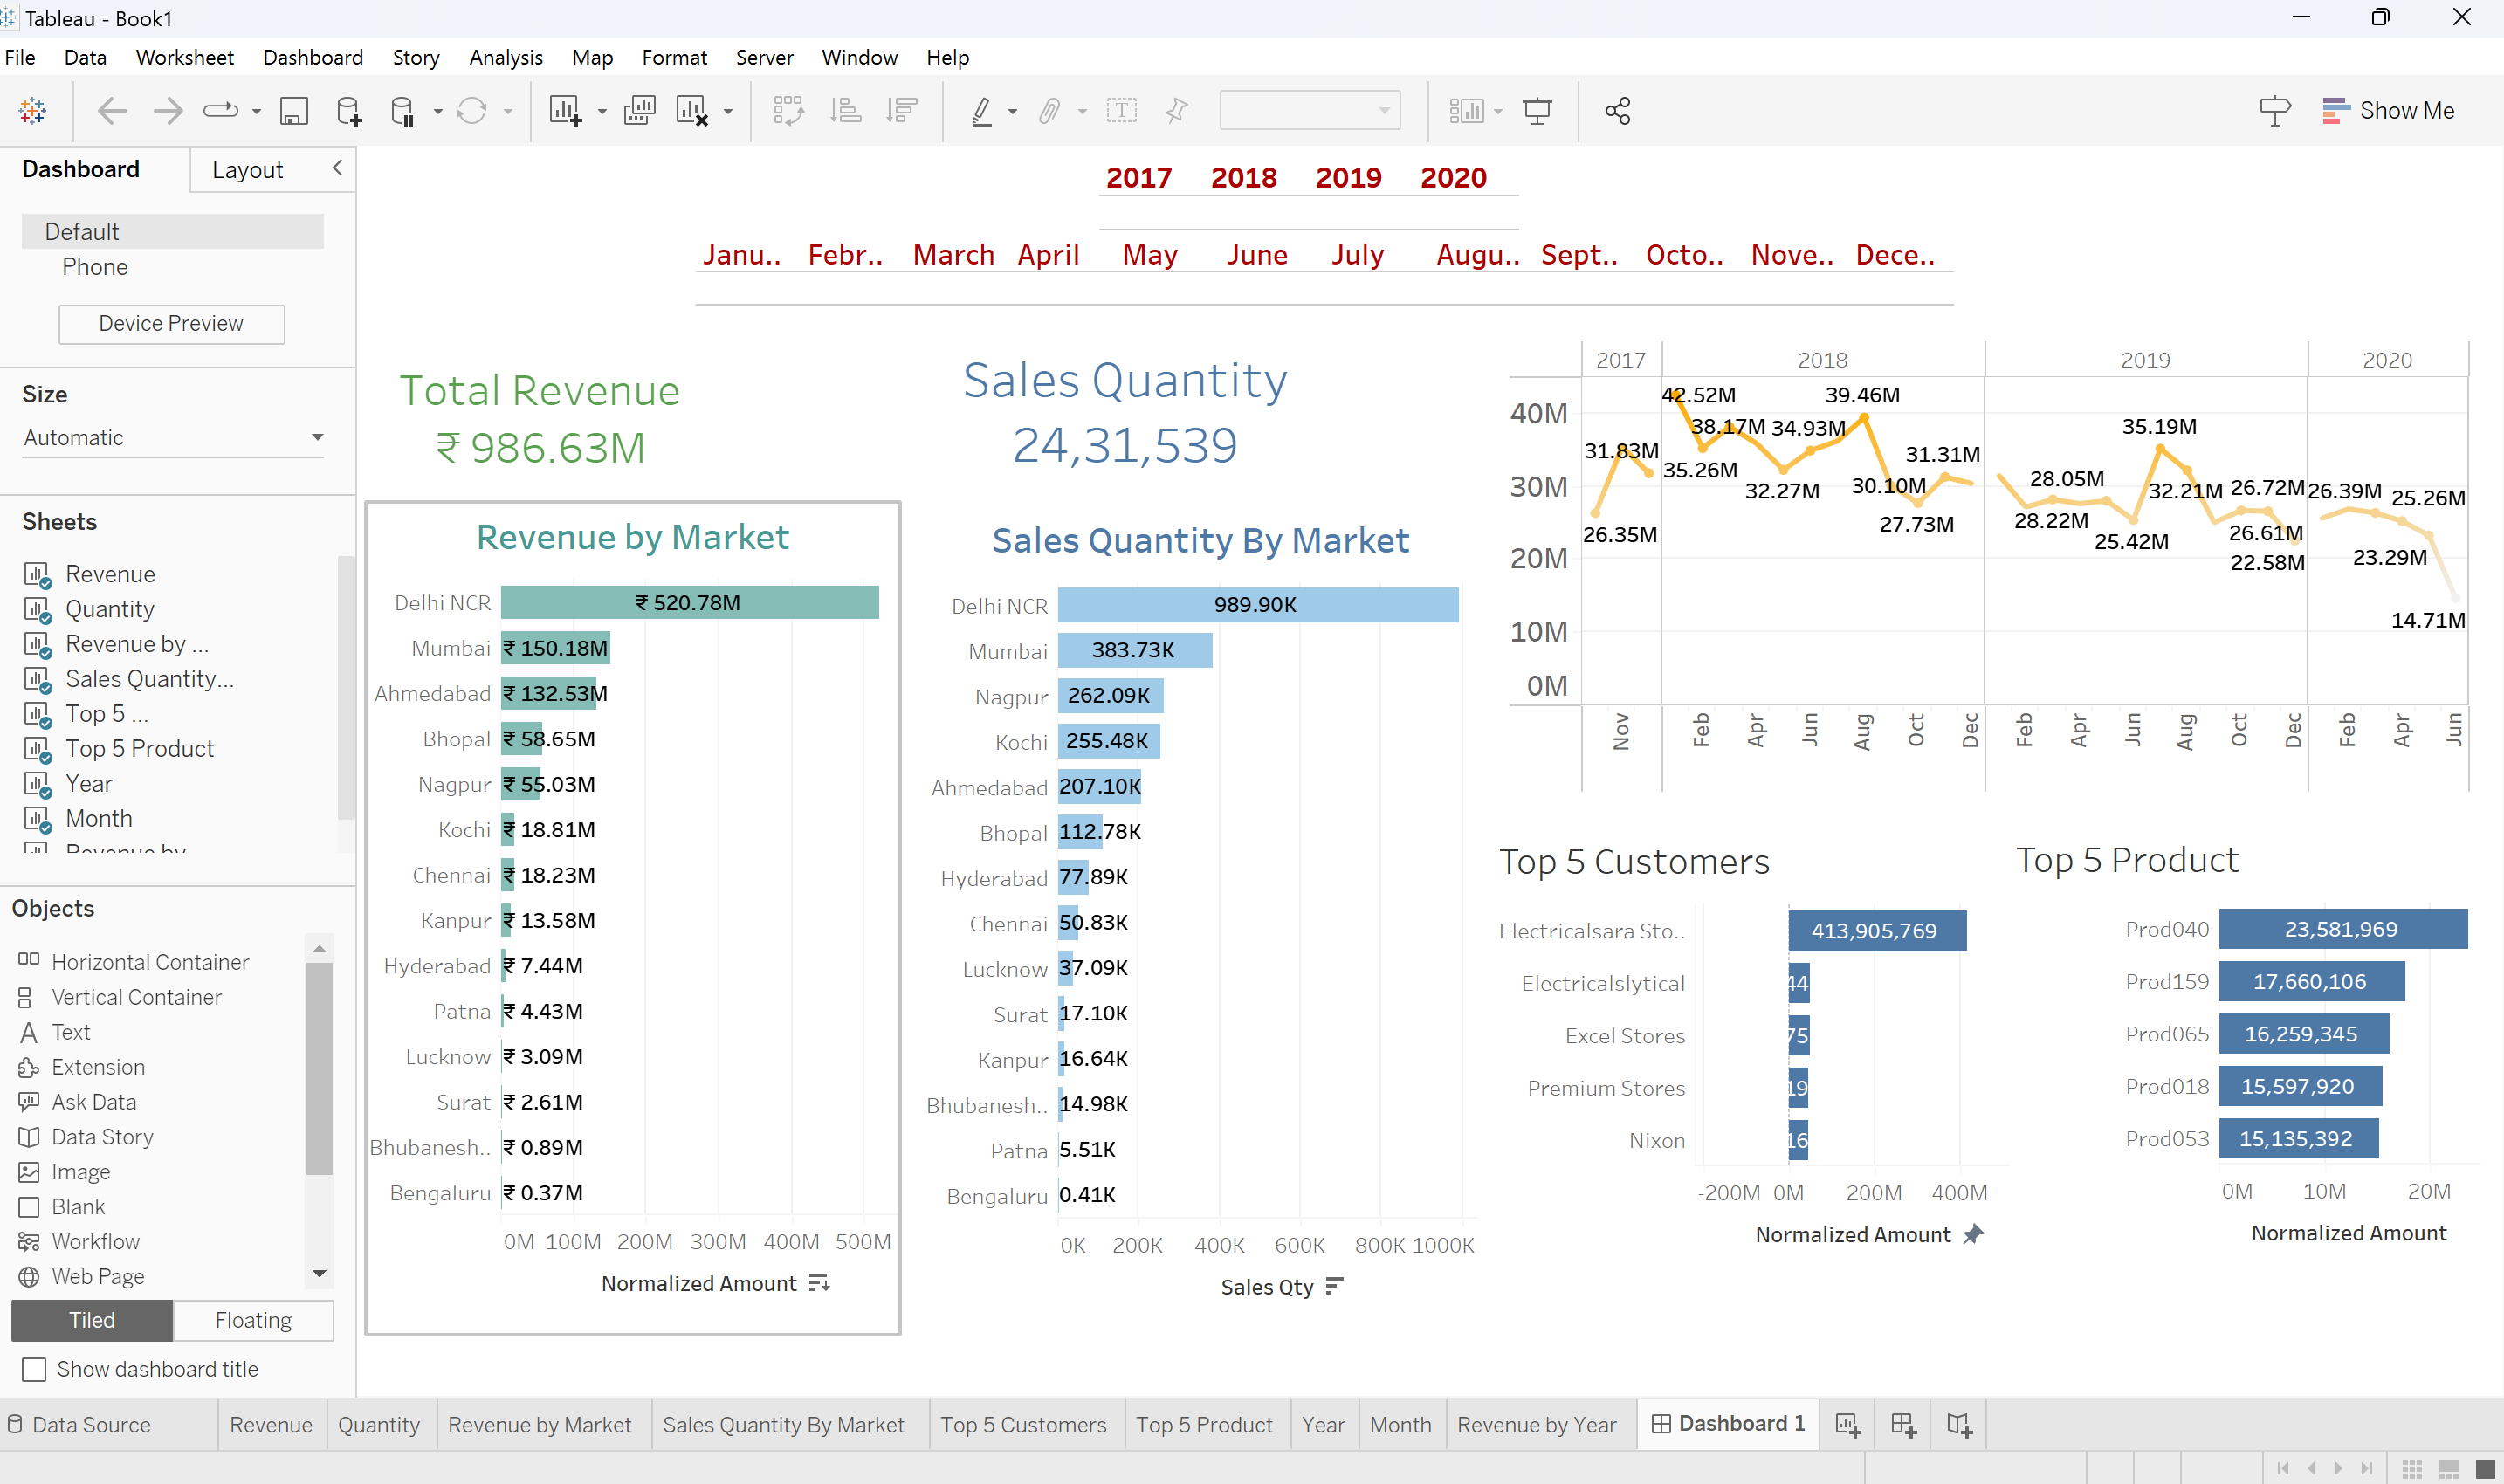

Layout of this report page (visuals, bound fields, positions):
{"tool":"tableau","page":{"name":"Dashboard 1","canvas":[1000,1000],"units":"permille","ordinal":0},"visuals":[{"type":"worksheet","title":"Year","mark":"Automatic","cols":["cy_date"],"box":[345.8,11.2,275,57.3]},{"type":"worksheet","title":"Month","mark":"Automatic","cols":["cy_date"],"box":[157.8,72.6,614.3,83.8]},{"type":"worksheet","title":"Revenue","mark":"Automatic","box":[12.2,149.4,153.8,146.7]},{"type":"worksheet","title":"Revenue by Year","mark":"Automatic","rows":["Calculation_1187824456518131712"],"cols":["cy_date","cy_date"],"box":[537,156.4,447.5,361.7]},{"type":"worksheet","title":"Quantity","mark":"Automatic","box":[276.7,159.2,163.6,124.3]},{"type":"worksheet","title":"Revenue by Market","mark":"Automatic","rows":["markets_name"],"cols":["Calculation_1187824456518131712"],"box":[4.9,286.3,247.4,663.4]},{"type":"worksheet","title":"Sales Quantity By Market","mark":"Automatic","rows":["markets_name"],"cols":["sales_qty"],"box":[264.4,289.1,257.9,648]},{"type":"worksheet","title":"Top 5 Product","mark":"Automatic","rows":["product_code (products)"],"cols":["Calculation_1187824456518131712"],"box":[769.7,544.7,219.7,372.9]},{"type":"worksheet","title":"Top 5 Customers","mark":"Automatic","rows":["custmer_name"],"cols":["Calculation_1187824456518131712"],"box":[528.9,546.1,242.5,357.5]}]}

Visuals, with their boxes on the dashboard's canvas, which has no fixed pixel size, in thousandths of its width and height (x1, y1, x2, y2). These are canvas units, not pixel positions in the 2504x1484 screenshot, which may show the page scaled, cropped or inside an application window:
"Year" worksheet: x1=346, y1=11, x2=621, y2=68
"Month" worksheet: x1=158, y1=73, x2=772, y2=156
"Revenue" worksheet: x1=12, y1=149, x2=166, y2=296
"Revenue by Year" worksheet: x1=537, y1=156, x2=984, y2=518
"Quantity" worksheet: x1=277, y1=159, x2=440, y2=284
"Revenue by Market" worksheet: x1=5, y1=286, x2=252, y2=950
"Sales Quantity By Market" worksheet: x1=264, y1=289, x2=522, y2=937
"Top 5 Product" worksheet: x1=770, y1=545, x2=989, y2=918
"Top 5 Customers" worksheet: x1=529, y1=546, x2=771, y2=904
